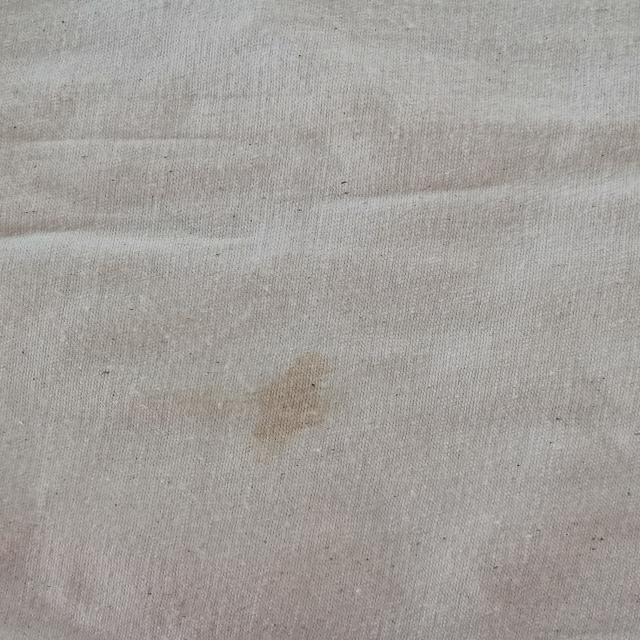taaaches: (238, 347, 360, 455)
